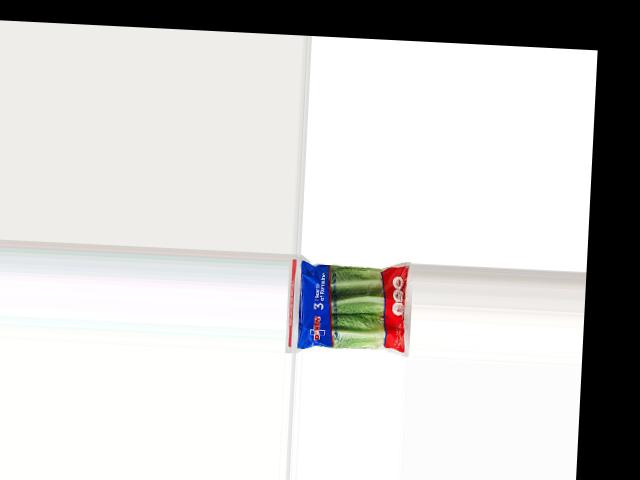lettuce: (291, 259, 413, 359)
